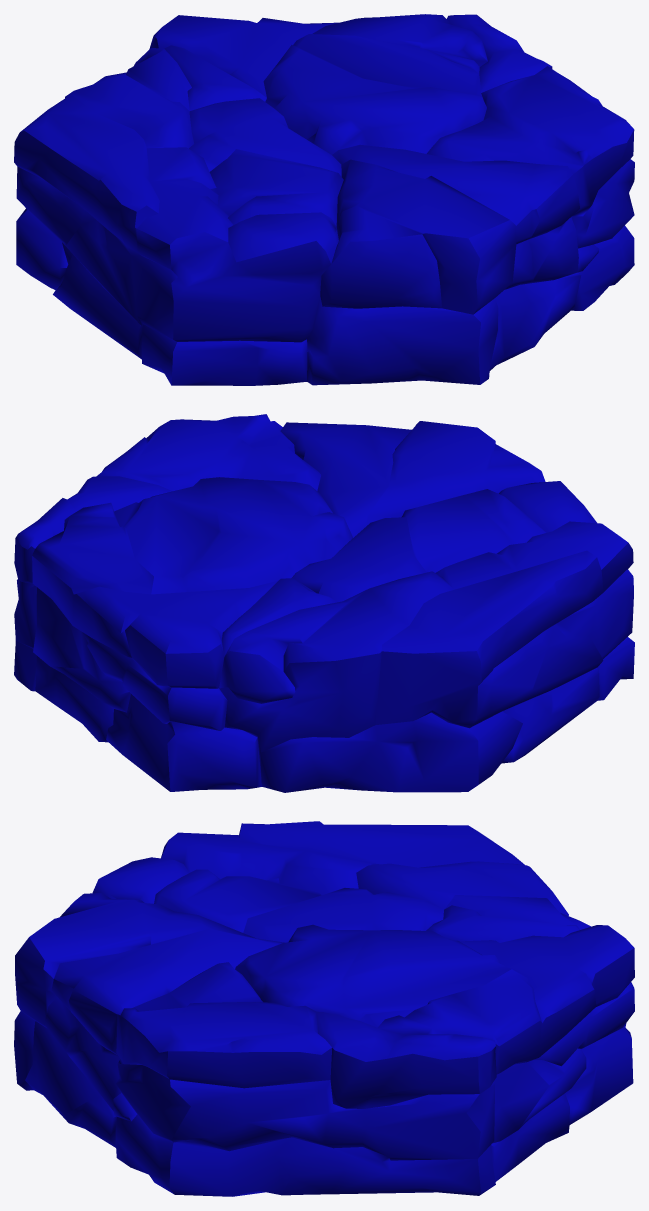
The model's file is SM_Hex_Rocky_01.fbx.
3 views of the same model, one above another, from view 1: azimuth 30°, elevation 25°; view 2: azimuth 150°, elevation 25°; view 3: azimuth 270°, elevation 25° (orthographic).
Parts seen in each view (by area): view 1: SM_Hex_Rocky_01; view 2: SM_Hex_Rocky_01; view 3: SM_Hex_Rocky_01.
Part boxes in pixels (x1,y1,x2,y2): SM_Hex_Rocky_01: (14,14,634,385); SM_Hex_Rocky_01: (14,414,634,792); SM_Hex_Rocky_01: (14,821,634,1196).
Size of the model in its own units: 176 by 56.03 by 201.
